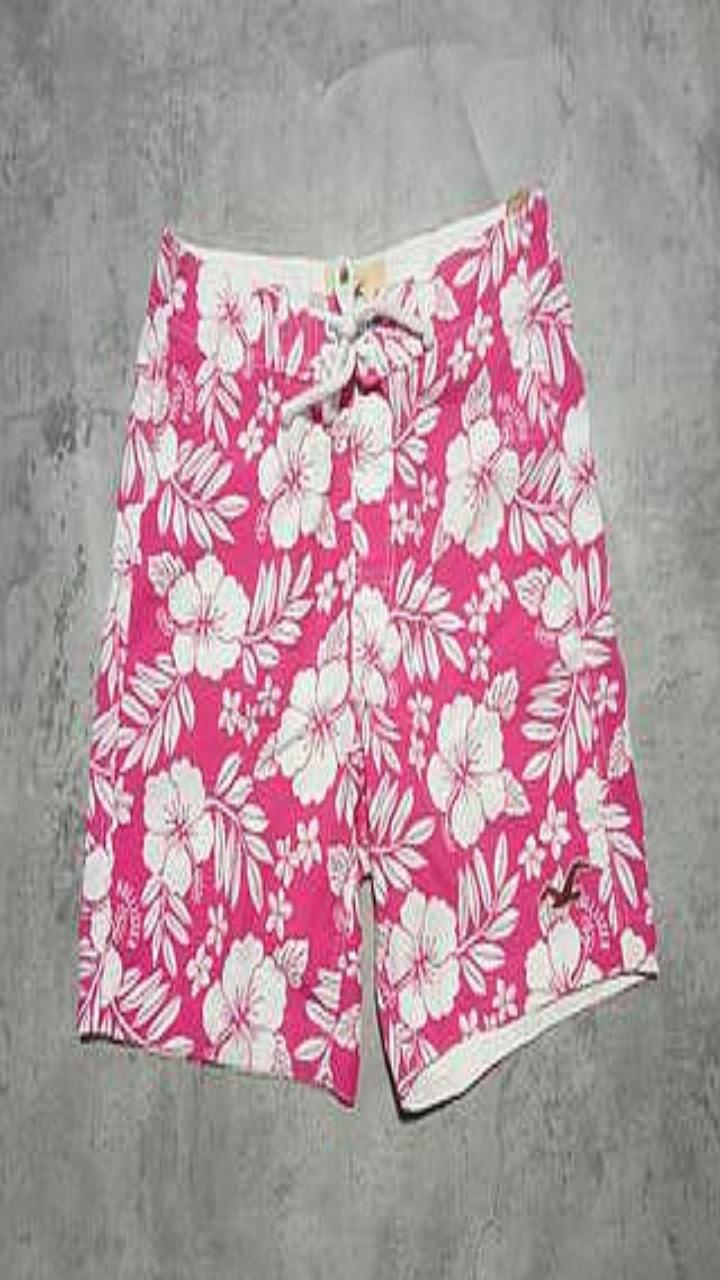Shorts: (77, 190, 656, 1110)
